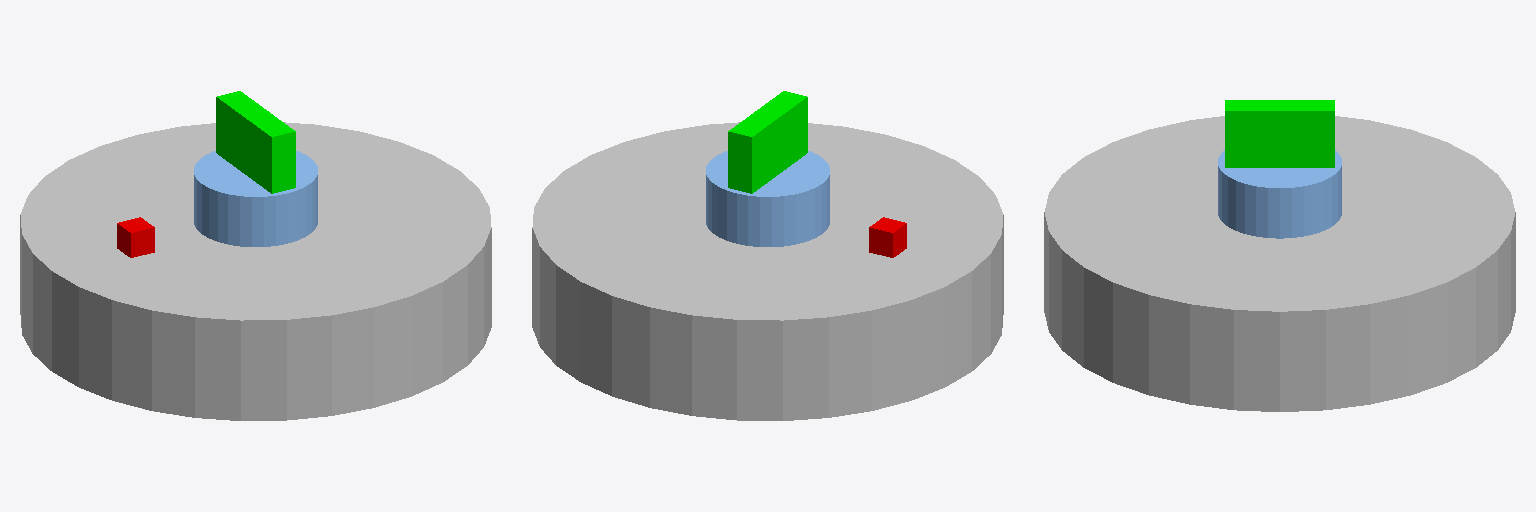
The robot description file, URDF, robot "iRobot":
<?xml version="1.0" ?>
<!-- =================================================================================== -->
<!-- |    This document was autogenerated by xacro from iRobot.urdf.xacro              | -->
<!-- |    EDITING THIS FILE BY HAND IS NOT RECOMMENDED                                 | -->
<!-- =================================================================================== -->
<robot name="iRobot" xmlns:xacro="http://www.ros.org/wiki/xacro">
    <!-- MODELS -->
    <material name="iRobot/Green">
        <color rgba="0.0 1.0 0.0 1.0" />
    </material>
    <material name="iRobot/Yellow">
        <color rgba="1.0 1.0 0.0 1.0" />
    </material>
    <material name="iRobot/LightYellow">
        <color rgba="1.0 1.0 0.6 1.0" />
    </material>
    <material name="iRobot/Blue">
        <color rgba="0.0 0.0 1.0 1.0" />
    </material>
    <material name="iRobot/LightBlue">
        <color rgba="0.6 0.79 1.0 1.0" />
    </material>
    <material name="iRobot/DarkGrey">
        <color rgba="0.31 0.31 0.31 1.0" />
    </material>
    <material name="iRobot/LightGrey">
        <color rgba="0.83 0.83 0.83 1.0" />
    </material>
    <material name="iRobot/MediumGrey">
        <color rgba="0.5 0.5 0.5 1.0" />
    </material>
    <material name="iRobot/Black">
        <color rgba="0.0 0.0 0.0 1.0" />
    </material>
    <material name="iRobot/Red">
        <color rgba="1.0 0.0 0.0 1.0" />
    </material>
    <material name="iRobot/Orange">
        <color rgba="1.0 0.65 0.0 1.0" />
    </material>
    <link name="base_link">
        
<inertial>
            <origin rpy="0 0 0" xyz="0 0 0" />
            <mass value="0" />
            <inertia ixx="0.0" ixy="0.0" ixz="0.0" iyy="0.0" iyz="0.0" izz="0.0" />
        </inertial>

    </link>
    <joint name="base_joint" type="fixed">
        <origin rpy="0 0 0" xyz="0 0 0" />
        <parent link="base_link" />
        <child link="chassis" />
    </joint>
    <link name="chassis">
        
<inertial>
            <origin rpy="0 0 0" xyz="0 0 0" />
            <mass value="10" />
            <inertia ixx="0.425" ixy="0.0" ixz="0.0" iyy="0.425" iyz="0.0" izz="0.85" />
        </inertial>

        <visual>
            <origin rpy="0 0 0" xyz="0 0 0" />
            <geometry>
                <cylinder length="0.08" radius="0.17" />
            </geometry>
            <material name="iRobot/LightGrey" />
        </visual>
        <collision>
            <origin rpy="0 0 0" xyz="0 0 0" />
            <geometry>
                <cylinder length="0.08" radius="0.17" />
            </geometry>
        </collision>
    </link>
    <joint name="left_axis_base_joint" type="fixed">
        <origin rpy="0 0 0" xyz="0 0.14 -0.02" />
        <parent link="chassis" />
        <child link="left_axis" />
    </joint>
    <link name="left_axis">
        
<inertial>
            <origin rpy="-1.57079632679 0 0" xyz="0 0 0" />
            <mass value="0.001" />
            <inertia ixx="6.25e-07" ixy="0.0" ixz="0.0" iyy="6.25e-07" iyz="0.0" izz="2.08333333333e-07" />
        </inertial>

        <visual>
            <origin rpy="-1.57079632679 0 0" xyz="0 0 0" />
            <geometry>
                <cylinder length="0.02" radius="0.0025" />
            </geometry>
            <material name="iRobot/MediumGray" />
        </visual>
        <collision>
            <origin rpy="-1.57079632679 0 0" xyz="0 0 0" />
            <geometry>
                <cylinder length="0.02" radius="0.0025" />
            </geometry>
        </collision>
    </link>
    <gazebo reference="left_axis_axis">
        <gravity>true</gravity>
        <material>Gazebo/Red</material>
        <mu1>0.8</mu1>
        <mu2>0.8</mu2>
    </gazebo>
    <joint name="left_wheel_rot_joint" type="continuous">
        <origin rpy="0 0 0" xyz="0 0 0" />
        <axis xyz="0 1 0" />
        <limit effort="100" velocity="10000" />
        <joint_properties damping="0.0" friction="0.0" />
        <parent link="left_axis" />
        <child link="left_wheel_link" />
    </joint>
    <link name="left_wheel_link">
        
<inertial>
            <origin rpy="-1.57079632679 0 0" xyz="0 0.01 0" />
            <mass value="0.5" />
            <inertia ixx="0.00375" ixy="0.0" ixz="0.0" iyy="0.00375" iyz="0.0" izz="0.00125" />
        </inertial>

        <visual>
            <origin rpy="-1.57079632679 0 0" xyz="0 0 0" />
            <geometry>
                <cylinder length="0.02" radius="0.03" />
            </geometry>
            <material name="iRobot/Black" />
        </visual>
        <collision>
            <origin rpy="-1.57079632679 0 0" xyz="0 0 0" />
            <geometry>
                <cylinder length="0.02" radius="0.03" />
            </geometry>
        </collision>
    </link>
    <gazebo reference="left_wheel_link">
        <gravity>true</gravity>
        <material>Gazebo/Grey</material>
        <mu1>50</mu1>
        <mu2>10</mu2>
        <kp>10000000</kp>
        <kd>1</kd>
        <fdir1>1 0 0</fdir1>
        <minDepth>0.0001</minDepth>
        <maxContacts>1</maxContacts>
    </gazebo>
    <joint name="right_axis_base_joint" type="fixed">
        <origin rpy="0 0 0" xyz="0 -0.14 -0.02" />
        <parent link="chassis" />
        <child link="right_axis" />
    </joint>
    <link name="right_axis">
        
<inertial>
            <origin rpy="-1.57079632679 0 0" xyz="0 0 0" />
            <mass value="0.001" />
            <inertia ixx="6.25e-07" ixy="0.0" ixz="0.0" iyy="6.25e-07" iyz="0.0" izz="2.08333333333e-07" />
        </inertial>

        <visual>
            <origin rpy="-1.57079632679 0 0" xyz="0 0 0" />
            <geometry>
                <cylinder length="0.02" radius="0.0025" />
            </geometry>
            <material name="iRobot/MediumGray" />
        </visual>
        <collision>
            <origin rpy="-1.57079632679 0 0" xyz="0 0 0" />
            <geometry>
                <cylinder length="0.02" radius="0.0025" />
            </geometry>
        </collision>
    </link>
    <gazebo reference="right_axis_axis">
        <gravity>true</gravity>
        <material>Gazebo/Red</material>
        <mu1>0.8</mu1>
        <mu2>0.8</mu2>
    </gazebo>
    <joint name="right_wheel_rot_joint" type="continuous">
        <origin rpy="0 0 0" xyz="0 0 0" />
        <axis xyz="0 1 0" />
        <limit effort="100" velocity="10000" />
        <joint_properties damping="0.0" friction="0.0" />
        <parent link="right_axis" />
        <child link="right_wheel_link" />
    </joint>
    <link name="right_wheel_link">
        
<inertial>
            <origin rpy="-1.57079632679 0 0" xyz="0 0.01 0" />
            <mass value="0.5" />
            <inertia ixx="0.00375" ixy="0.0" ixz="0.0" iyy="0.00375" iyz="0.0" izz="0.00125" />
        </inertial>

        <visual>
            <origin rpy="-1.57079632679 0 0" xyz="0 0 0" />
            <geometry>
                <cylinder length="0.02" radius="0.03" />
            </geometry>
            <material name="iRobot/Black" />
        </visual>
        <collision>
            <origin rpy="-1.57079632679 0 0" xyz="0 0 0" />
            <geometry>
                <cylinder length="0.02" radius="0.03" />
            </geometry>
        </collision>
    </link>
    <gazebo reference="right_wheel_link">
        <gravity>true</gravity>
        <material>Gazebo/Grey</material>
        <mu1>50</mu1>
        <mu2>10</mu2>
        <kp>10000000</kp>
        <kd>1</kd>
        <fdir1>1 0 0</fdir1>
        <minDepth>0.0001</minDepth>
        <maxContacts>1</maxContacts>
    </gazebo>
    <joint name="sphere_joint1" type="revolute">
        <origin rpy="0 0 0" xyz="0.14 0 -0.04" />
        <axis xyz="0 0 1" />
        <limit effort="100" lower="0" upper="0" velocity="10000" />
        <parent link="chassis" />
        <child link="sphere1" />
    </joint>
    <link name="sphere1">
        
<inertial>
            <origin rpy="0 0 0" xyz="0 0 0" />
            <mass value="0.3" />
            <inertia ixx="0.0012" ixy="0.0" ixz="0.0" iyy="0.0012" iyz="0.0" izz="0.0012" />
        </inertial>

        <visual>
            <origin rpy="0 0 0" xyz="0 0 0" />
            <geometry>
                <sphere radius="0.01" />
            </geometry>
            <material name="iRobot/Black" />
        </visual>
        <collision>
            <origin rpy="0 0 0" xyz="0 0 0" />
            <geometry>
                <sphere radius="0.01" />
            </geometry>
        </collision>
    </link>
    <joint name="sphere_joint2" type="revolute">
        <origin rpy="0 0 0" xyz="-0.14 0 -0.04" />
        <axis xyz="0 0 1" />
        <limit effort="100" lower="0" upper="0" velocity="10000" />
        <parent link="chassis" />
        <child link="sphere2" />
    </joint>
    <link name="sphere2">
        
<inertial>
            <origin rpy="0 0 0" xyz="0 0 0" />
            <mass value="0.3" />
            <inertia ixx="0.0012" ixy="0.0" ixz="0.0" iyy="0.0012" iyz="0.0" izz="0.0012" />
        </inertial>

        <visual>
            <origin rpy="0 0 0" xyz="0 0 0" />
            <geometry>
                <sphere radius="0.01" />
            </geometry>
            <material name="iRobot/Black" />
        </visual>
        <collision>
            <origin rpy="0 0 0" xyz="0 0 0" />
            <geometry>
                <sphere radius="0.01" />
            </geometry>
        </collision>
    </link>
    <!-- Laser link and plugin -->
    <joint name="hokuyo_laser_joint" type="fixed">
        <axis xyz="0 0 1" />
        <origin rpy="0 0 0" xyz="0 0 0.06" />
        <parent link="base_link" />
        <child link="hokuyo_laser_link" />
    </joint>
    <link name="hokuyo_laser_link">
        <collision>
            <origin rpy="0 0 0" xyz="0 0 0" />
            <geometry>
                <cylinder length="0.04" radius="0.045" />
            </geometry>
        </collision>
        <visual>
            <origin rpy="0 0 0" xyz="0 0 0" />
            <geometry>
                <cylinder length="0.04" radius="0.045" />
            </geometry>
            <material name="iRobot/LightBlue" />
        </visual>
        
<inertial>
            <mass value="1e-5" />
            <origin rpy="0 0 0" xyz="0 0 0" />
            <inertia ixx="1e-6" ixy="0" ixz="0" iyy="1e-6" iyz="0" izz="1e-6" />
        </inertial>

    </link>
    <gazebo reference="hokuyo_laser_link">
        <gravity>true</gravity>
        <sensor name="head_hokuyo_sensor" type="ray">
            <pose>0 0 0 0 0 0</pose>
            <visualize>true</visualize>
            <update_rate>40</update_rate>
            <ray>
                <scan>
                    <horizontal>
                        <samples>360</samples>
                        <resolution>1</resolution>
                        <min_angle>-3.14159</min_angle>
                        <max_angle>3.14159</max_angle>
                    </horizontal>
                </scan>
                <range>
                    <min>0.2</min>
                    <max>40</max>
                    <resolution>0.025</resolution>
                </range>
                <noise>
                    <type>gaussian</type>
                    <mean>0.0</mean>
                    <stddev>0.0</stddev>
                </noise>
            </ray>
            <plugin filename="libgazebo_ros_laser.so" name="gazebo_ros_head_hokuyo_controller">
                <robotNamespace />
                <topicName>laser_scan</topicName>
                <frameName>hokuyo_laser_link</frameName>
            </plugin>
        </sensor>
    </gazebo>
    <!--Imu link and plugin-->
    <joint name="imu_sensor_joint" type="fixed">
        <axis xyz="0 0 1" />
        <origin rpy="0 0 0" xyz="-0.1 0 0.05" />
        <parent link="base_link" />
        <child link="imu_sensor_link" />
    </joint>
    <link name="imu_sensor_link">
        <collision>
            <origin rpy="0 0 0" xyz="0 0 0" />
            <geometry>
                <box size="0.02 0.02 0.02" />
            </geometry>
        </collision>
        <visual>
            <origin rpy="0 0 0" xyz="0 0 0" />
            <geometry>
                <box size="0.02 0.02 0.02" />
            </geometry>
            <material name="iRobot/Red" />
        </visual>
        
<inertial>
            <mass value="0.001" />
            <origin rpy="0 0 0" xyz="0 0 0" />
            <inertia ixx="0.00000015" ixy="0" ixz="0" iyy="0.00000015" iyz="0" izz="0.00000015" />
        </inertial>

    </link>
    <gazebo reference="imu_sensor_link">
        <gravity>true</gravity>
        <sensor name="imu_sensor" type="imu">
            <always_on>1</always_on>
            <update_rate>1000</update_rate>
            <visualize>1</visualize>
            <topic>__default_topic__</topic>
            <plugin filename="libgazebo_ros_imu_sensor.so" name="imu_plugin">
                <topicName>imu_data</topicName>
                <bodyName>imu_sensor_link</bodyName>
                <updateRateHZ>10.0</updateRateHZ>
                <gaussianNoise>0.0</gaussianNoise>
                <xyzOffset>0 0 0</xyzOffset>
                <rpyOffset>0 0 0</rpyOffset>
            </plugin>
            <pose>0 0 0 0 0 0</pose>
        </sensor>
    </gazebo>
    <!--Camera link and plugin-->
    <joint name="camera_sensor_joint" type="fixed">
        <axis xyz="0 1 0" />
        <origin rpy="0 0 0" xyz="0 0 0.1" />
        <parent link="base_link" />
        <child link="camera_link" />
    </joint>
    <link name="camera_link">
        <collision>
            <origin rpy="0 0 0" xyz="0 0 0" />
            <geometry>
                <box size="0.02 0.08 0.05" />
            </geometry>
        </collision>
        <visual>
            <origin rpy="0 0 0" xyz="0 0 0" />
            <geometry>
                <box size="0.02 0.08 0.05" />
            </geometry>
            <material name="iRobot/Green" />
        </visual>
        
<inertial>
            <mass value="0.0001" />
            <origin rpy="0 0 3.14159265359" xyz="0 0 0" />
            <inertia ixx="0.0000001" ixy="0" ixz="0" iyy="0.0000001" iyz="0" izz="0.0000001" />
        </inertial>

    </link>
    <gazebo reference="camera_link">
        <sensor name="camera" type="camera">
            <update_rate>30.0</update_rate>
            <camera name="head">
                <horizontal_fov>1.3962634</horizontal_fov>
                <image>
                    <width>800</width>
                    <height>600</height>
                    <format>R8G8B8</format>
                </image>
                <clip>
                    <near>0.02</near>
                    <far>300</far>
                </clip>
                <noise>
                    <type>gaussian</type>
                    <mean>0.0</mean>
                    <stddev>0.007</stddev>
                </noise>
            </camera>
            <plugin filename="libgazebo_ros_camera.so" name="camera_controller">
                <alwaysOn>true</alwaysOn>
                <updateRate>0.0</updateRate>
                <cameraName>iRobot/camera</cameraName>
                <imageTopicName>image_raw</imageTopicName>
                <cameraInfoTopicName>camera_info</cameraInfoTopicName>
                <frameName>camera_link</frameName>
                <hackBaseline>0.07</hackBaseline>
                <distortionK1>0.0</distortionK1>
                <distortionK2>0.0</distortionK2>
                <distortionK3>0.0</distortionK3>
                <distortionT1>0.0</distortionT1>
                <distortionT2>0.0</distortionT2>
            </plugin>
        </sensor>
    </gazebo>
    <!--    <xacro:model_shelf name="first_shelf" 
                       parent="chassis"
                       height="0.15">
    </xacro:model_shelf>-->
    <!--    <xacro:model_shelf name="second_shelf" 
                       parent="first_shelf"
                       height="0.25">
    </xacro:model_shelf>
    -->
    <gazebo reference="base_link" />
    <gazebo reference="ground" />
    <gazebo reference="sphere1">
        <gravity>true</gravity>
        <material>Gazebo/Grey</material>
        <mu1>0</mu1>
        <mu2>0</mu2>
        <kp>10000000</kp>
        <kd>1</kd>
        <fdir1>1 0 0</fdir1>
        <minDepth>0.0001</minDepth>
        <maxContacts>1</maxContacts>
    </gazebo>
    <gazebo reference="sphere2">
        <gravity>true</gravity>
        <material>Gazebo/Grey</material>
        <mu1>0</mu1>
        <mu2>0</mu2>
        <kp>10000000</kp>
        <kd>1</kd>
        <fdir1>1 0 0</fdir1>
        <minDepth>0.0001</minDepth>
        <maxContacts>1</maxContacts>
    </gazebo>
    <gazebo reference="chassis">
        <gravity>true</gravity>
        <material>Gazebo/Yellow</material>
    </gazebo>
    <gazebo>
        <static>false</static>
        <plugin filename="libgazebo_ros_diff_drive.so" name="differential_drive_controller">
            <rosDebugLevel>Debug</rosDebugLevel>
            <publishWheelTF>false</publishWheelTF>
            <publishWheelJointState>true</publishWheelJointState>
            <alwaysOn>true</alwaysOn>
            <leftJoint>left_wheel_rot_joint</leftJoint>
            <rightJoint>right_wheel_rot_joint</rightJoint>
            <wheelSeparation>0.28</wheelSeparation>
            <wheelDiameter>0.06</wheelDiameter>
            <torque>20</torque>
            <wheelAcceleration>1.8</wheelAcceleration>
            <commandTopic>cmd_vel</commandTopic>
            <odometryTopic>odom</odometryTopic>
            <odometryFrame>odom</odometryFrame>
            <odometrySource>encoder</odometrySource>
            <robotBaseFrame>base_link</robotBaseFrame>
            <updateRate>10.0</updateRate>
        </plugin>
        <plugin filename="libgazebo_ros_joint_state_publisher.so" name="joint_state_publisher">
            <jointName>left_wheel_rot_joint, right_wheel_rot_joint</jointName>
            <updateRate>10.0</updateRate>
            <alwaysOn>true</alwaysOn>
        </plugin>
        <plugin filename="libgazebo_ros_imu.so" name="imu_plugin">
            <bodyName>base_link</bodyName>
            <updateRate>100.0</updateRate>
            <topicName>imu_data</topicName>
            <serviceName>imu_service</serviceName>
            <gaussianNoise>0.1</gaussianNoise>
            <xyzOffset>0 0 0</xyzOffset>
            <rpyOffset>0 0 0</rpyOffset>
        </plugin>
    </gazebo>
    
<transmission name="trans_left_wheel_rot_joint">
        <type>transmission_interface/SimpleTransmission</type>
        <joint name="left_wheel_rot_joint">
            <hardwareInterface>hardware_interface/EffortJointInterface</hardwareInterface>
        </joint>
        <actuator name="left_wheel_rot_joint_motor">
            <hardwareInterface>hardware_interface/EffortJointInterface</hardwareInterface>
            <mechanicalReduction>1</mechanicalReduction>
        </actuator>
    </transmission>
    <transmission name="trans_right_wheel_rot_joint">
        <type>transmission_interface/SimpleTransmission</type>
        <joint name="right_wheel_rot_joint">
            <hardwareInterface>hardware_interface/EffortJointInterface</hardwareInterface>
        </joint>
        <actuator name="right_wheel_rot_joint_motor">
            <hardwareInterface>hardware_interface/EffortJointInterface</hardwareInterface>
            <mechanicalReduction>1</mechanicalReduction>
        </actuator>
    </transmission>
    <transmission name="trans_sphere_joint1">
        <type>transmission_interface/SimpleTransmission</type>
        <joint name="sphere_joint1">
            <hardwareInterface>hardware_interface/EffortJointInterface</hardwareInterface>
        </joint>
        <actuator name="sphere_joint1_motor">
            <hardwareInterface>hardware_interface/EffortJointInterface</hardwareInterface>
            <mechanicalReduction>1</mechanicalReduction>
        </actuator>
    </transmission>
    <transmission name="trans_sphere_joint2">
        <type>transmission_interface/SimpleTransmission</type>
        <joint name="sphere_joint2">
            <hardwareInterface>hardware_interface/EffortJointInterface</hardwareInterface>
        </joint>
        <actuator name="sphere_joint2_motor">
            <hardwareInterface>hardware_interface/EffortJointInterface</hardwareInterface>
            <mechanicalReduction>1</mechanicalReduction>
        </actuator>
    </transmission>
    <gazebo>
        <plugin name="gazebo_ros_control" filename="libgazebo_ros_control.so">
            <robotNamespace>/</robotNamespace>
        </plugin>
    </gazebo>
</robot>

--- What the picture shows (computed from the rendered views, not written in the file) ---
The picture shows the robot from 3 angles, left to right: view 1: azimuth 30°, elevation 25°; view 2: azimuth 150°, elevation 25°; view 3: azimuth 270°, elevation 25°; orthographic projection.
Model iRobot with 11 links and 10 joints (2 revolute, 2 continuous, 6 fixed), rooted at base_link, posed every joint at zero.
Visible links, largest first — view 1: chassis, hokuyo_laser_link, camera_link, imu_sensor_link; view 2: chassis, hokuyo_laser_link, camera_link, imu_sensor_link; view 3: chassis, hokuyo_laser_link, camera_link.
Boxes of the visible links, x1,y1,x2,y2 form: chassis: (20, 122, 491, 420); hokuyo_laser_link: (194, 151, 317, 246); camera_link: (216, 91, 295, 193); imu_sensor_link: (117, 217, 154, 257); chassis: (532, 122, 1003, 420); hokuyo_laser_link: (706, 151, 829, 246); camera_link: (728, 91, 807, 193); imu_sensor_link: (869, 217, 906, 257); chassis: (1044, 116, 1515, 411); hokuyo_laser_link: (1218, 150, 1341, 238); camera_link: (1225, 100, 1334, 167).
Bounding box of the posed robot: 0.34 × 0.34 × 0.175 m (x, y, z).
Geometry: primitives only (box / cylinder / sphere), no mesh files.
